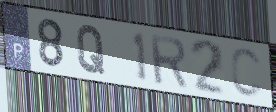1: (130, 31, 148, 84)
2: (188, 38, 229, 98)
8: (36, 17, 67, 70)
C: (229, 46, 266, 101)
Q: (75, 23, 107, 76)
R: (147, 31, 190, 89)
